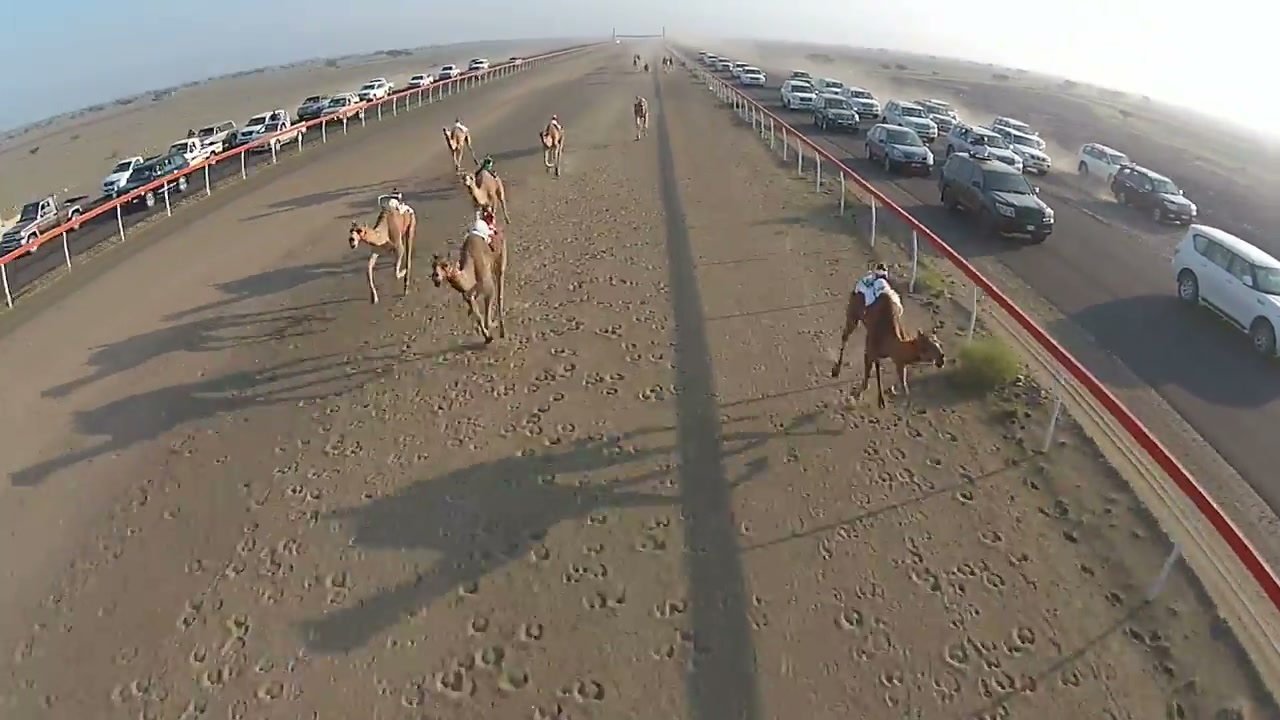animal_foot_print: (6, 81, 1274, 719), (837, 610, 896, 662), (434, 666, 475, 699), (557, 678, 607, 702), (929, 670, 960, 705), (562, 563, 609, 583), (1004, 626, 1036, 655), (943, 639, 971, 672), (497, 665, 531, 692), (583, 588, 625, 609), (325, 571, 350, 605), (400, 679, 428, 709), (474, 645, 505, 668), (530, 703, 571, 719), (653, 599, 687, 618), (255, 679, 284, 701), (836, 609, 865, 630), (635, 532, 666, 551), (518, 621, 545, 642), (637, 386, 673, 401), (748, 608, 769, 630), (467, 615, 490, 635), (651, 643, 678, 659), (978, 529, 1004, 545), (457, 579, 479, 596), (582, 543, 604, 555), (587, 512, 608, 524)
